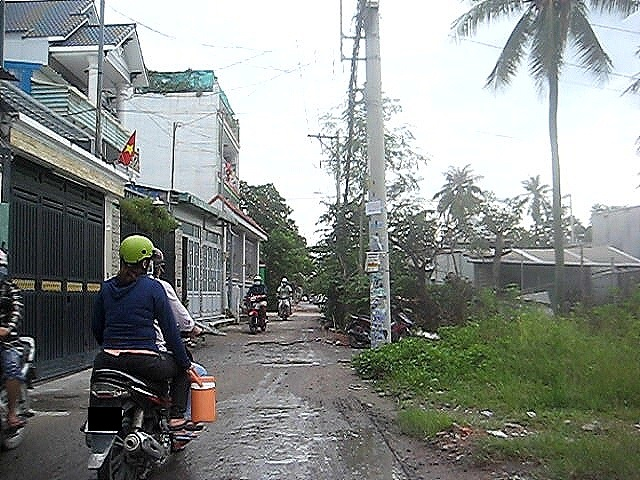hole: (239, 423, 296, 442), (240, 339, 327, 350), (263, 451, 316, 468), (251, 403, 310, 417), (256, 359, 321, 368)
